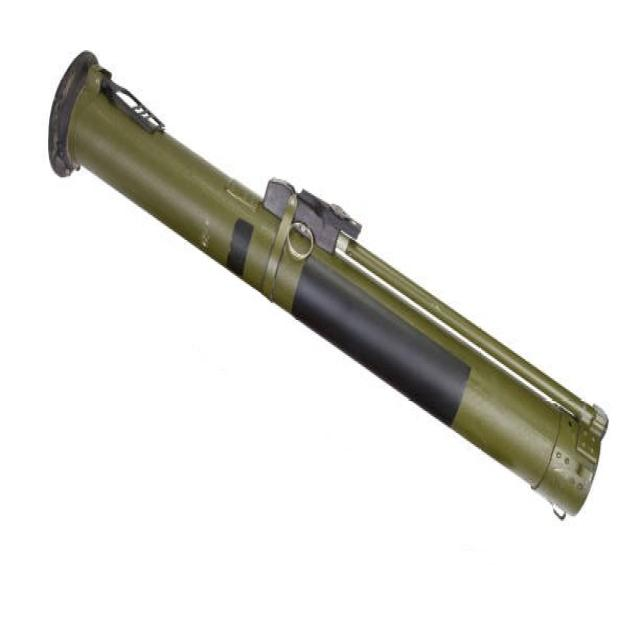bazooka: (41, 44, 614, 536)
